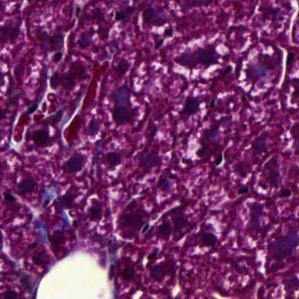inflammation: (166, 33, 233, 78), (152, 203, 192, 247)
